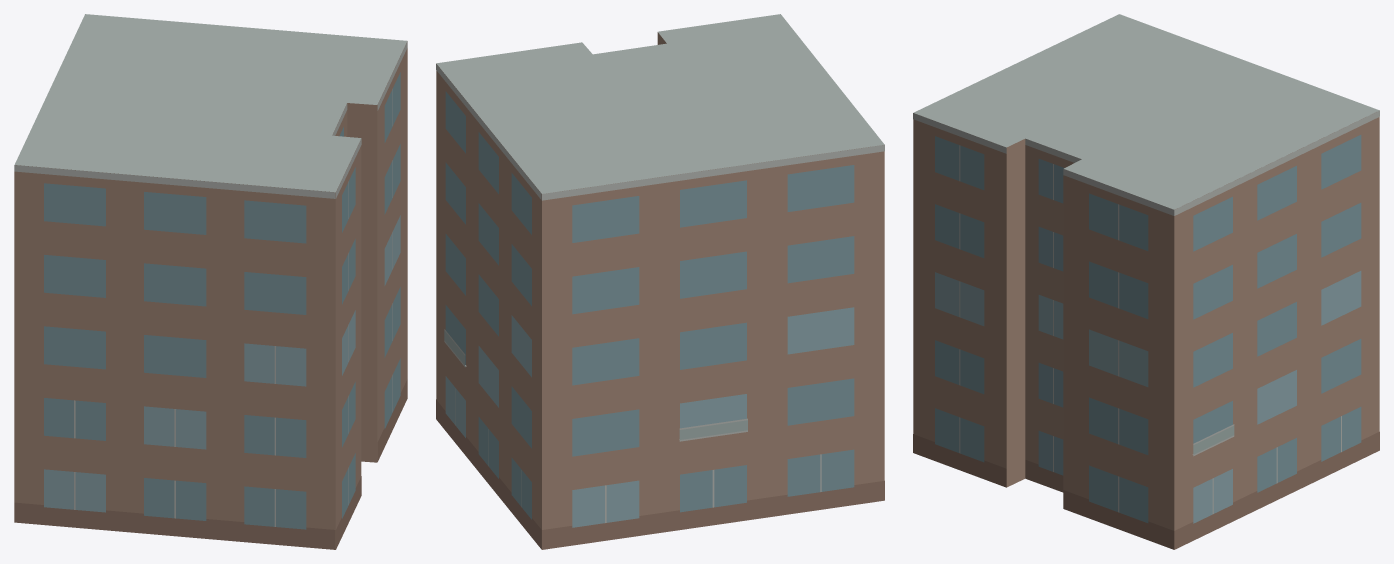
The model's file is survey-upis-32523870.glb.
3 renders of one model, left to right at view 1: azimuth 30°, elevation 25°; view 2: azimuth 150°, elevation 25°; view 3: azimuth 270°, elevation 25°, orthographic. The views are drawn at different scales.
Parts seen in each view (by area): view 1: survey-upis-32523870.tmp; view 2: survey-upis-32523870.tmp; view 3: survey-upis-32523870.tmp.
Boxes of the visible parts, box(x1,y1,x2,y2) form: survey-upis-32523870.tmp: box(14, 14, 407, 549); survey-upis-32523870.tmp: box(436, 14, 884, 549); survey-upis-32523870.tmp: box(913, 14, 1379, 549).
Bounding box in the file's own units: 16.16 × 13.08 × 16.27.
